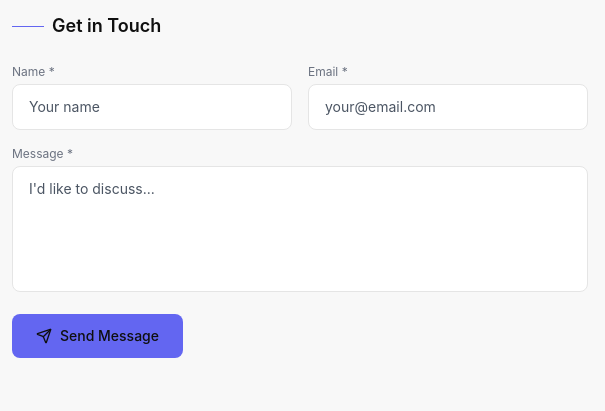
Test: ContactSection › shows error message on failure
Type "John" into the field with placeholder "Your name".
click(152, 107); type("John")  # box [12,84,292,130]
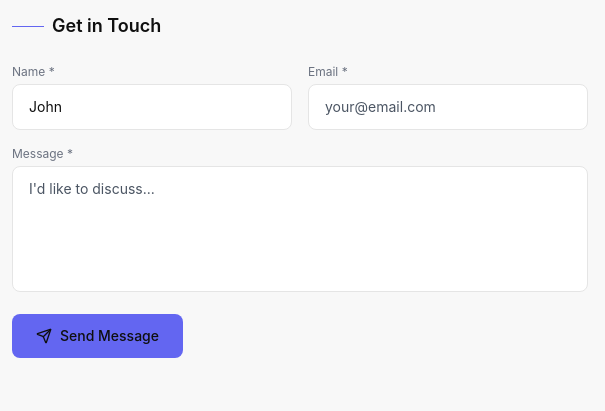
Type "john@company.com" into the field with placeholder "your@email.com".
click(448, 107); type("john@company.com")  # box [308,84,588,130]
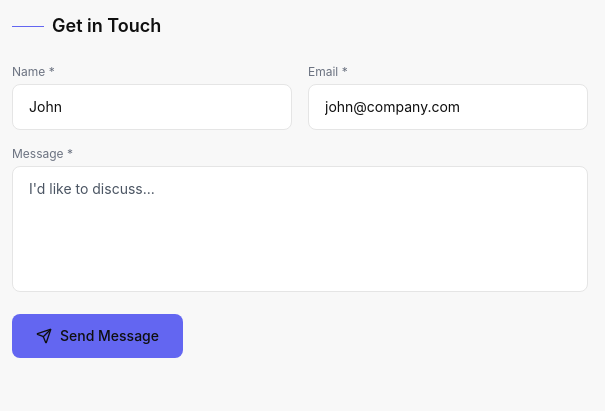
Type "Hello" into the text box with placeholder "I'd like to discuss...".
click(300, 229); type("Hello")  # box [12,166,588,292]
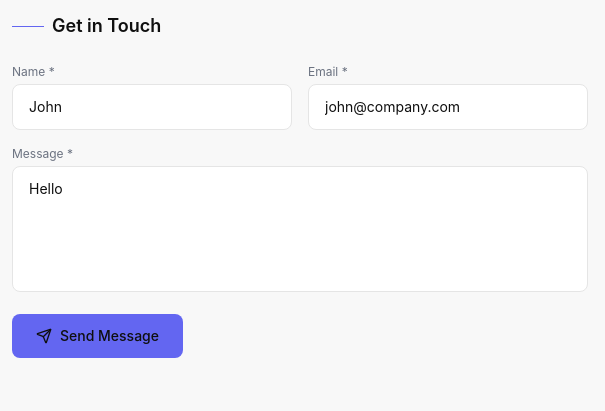
Click the button "Send Message".
click(98, 336)  # box [12,314,183,358]
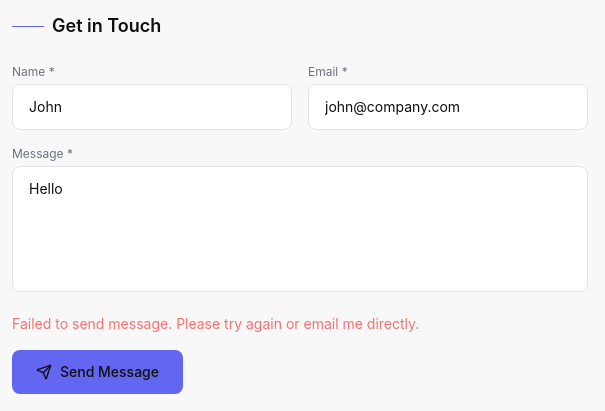
Expected: the text "Failed to send" is shown, [12,315,419,332]
